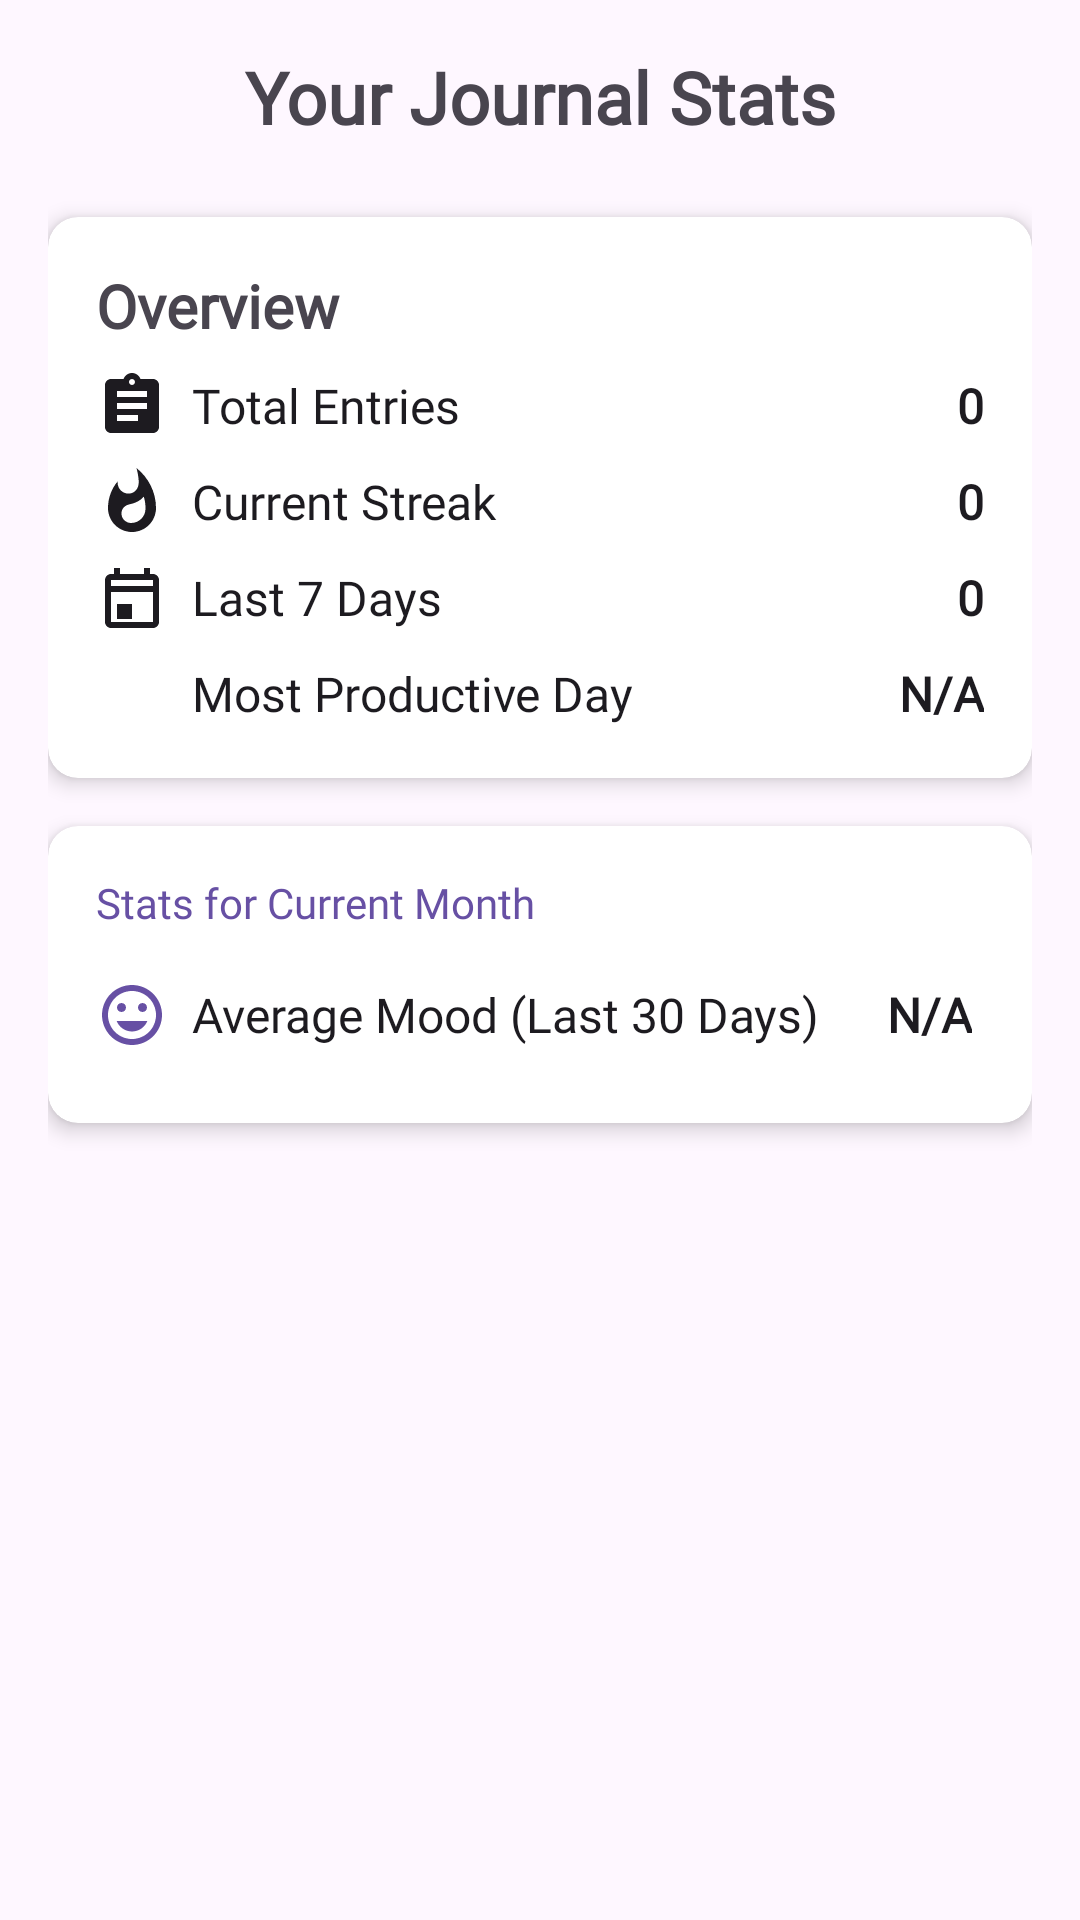

Icons on this 1080×1920 Android screen, each with its box as (x1, y1, x2, y2):
streak count: (108, 468, 156, 532)
weekly: (105, 568, 159, 628)
